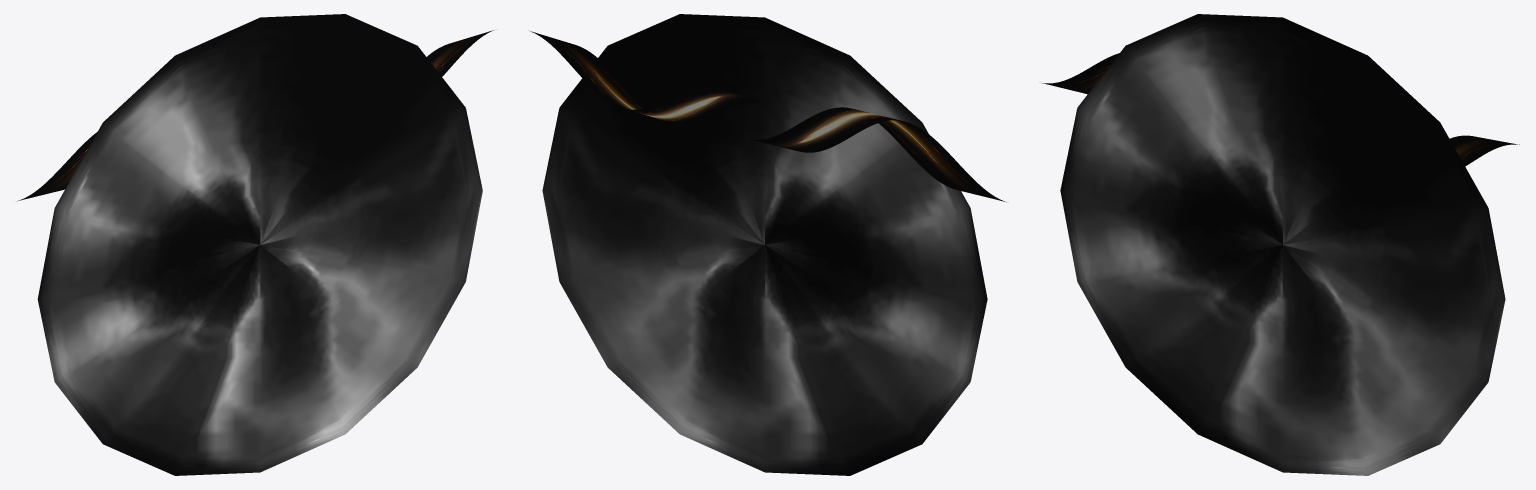
File: LordNameDlg.fbx
The picture shows the model from 3 angles, left to right: view 1: azimuth 30°, elevation 25°; view 2: azimuth 150°, elevation 25°; view 3: azimuth 330°, elevation 25°; orthographic projection.
Parts seen in each view (by area): view 1: FX_Sphere01, FX_Helix02, FX_Helix01; view 2: FX_Sphere01, FX_Helix02, FX_Helix01; view 3: FX_Sphere01, FX_Helix01, FX_Helix02.
Part boxes in pixels (x1,y1,x2,y2): FX_Sphere01: (37,14,482,475); FX_Helix02: (17,132,97,201); FX_Helix01: (427,30,493,76); FX_Sphere01: (542,14,987,475); FX_Helix02: (748,107,1005,201); FX_Helix01: (530,31,767,124); FX_Sphere01: (1060,14,1505,475); FX_Helix01: (1450,135,1519,166); FX_Helix02: (1042,53,1119,94).
Size of the model in its own units: 1145 by 1030 by 3.2.
2 materials, 2 textured.
